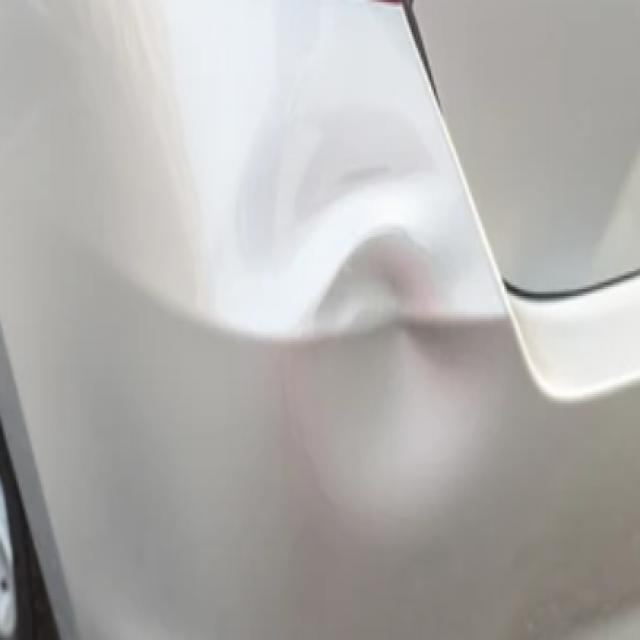dents: (287, 154, 500, 583)
